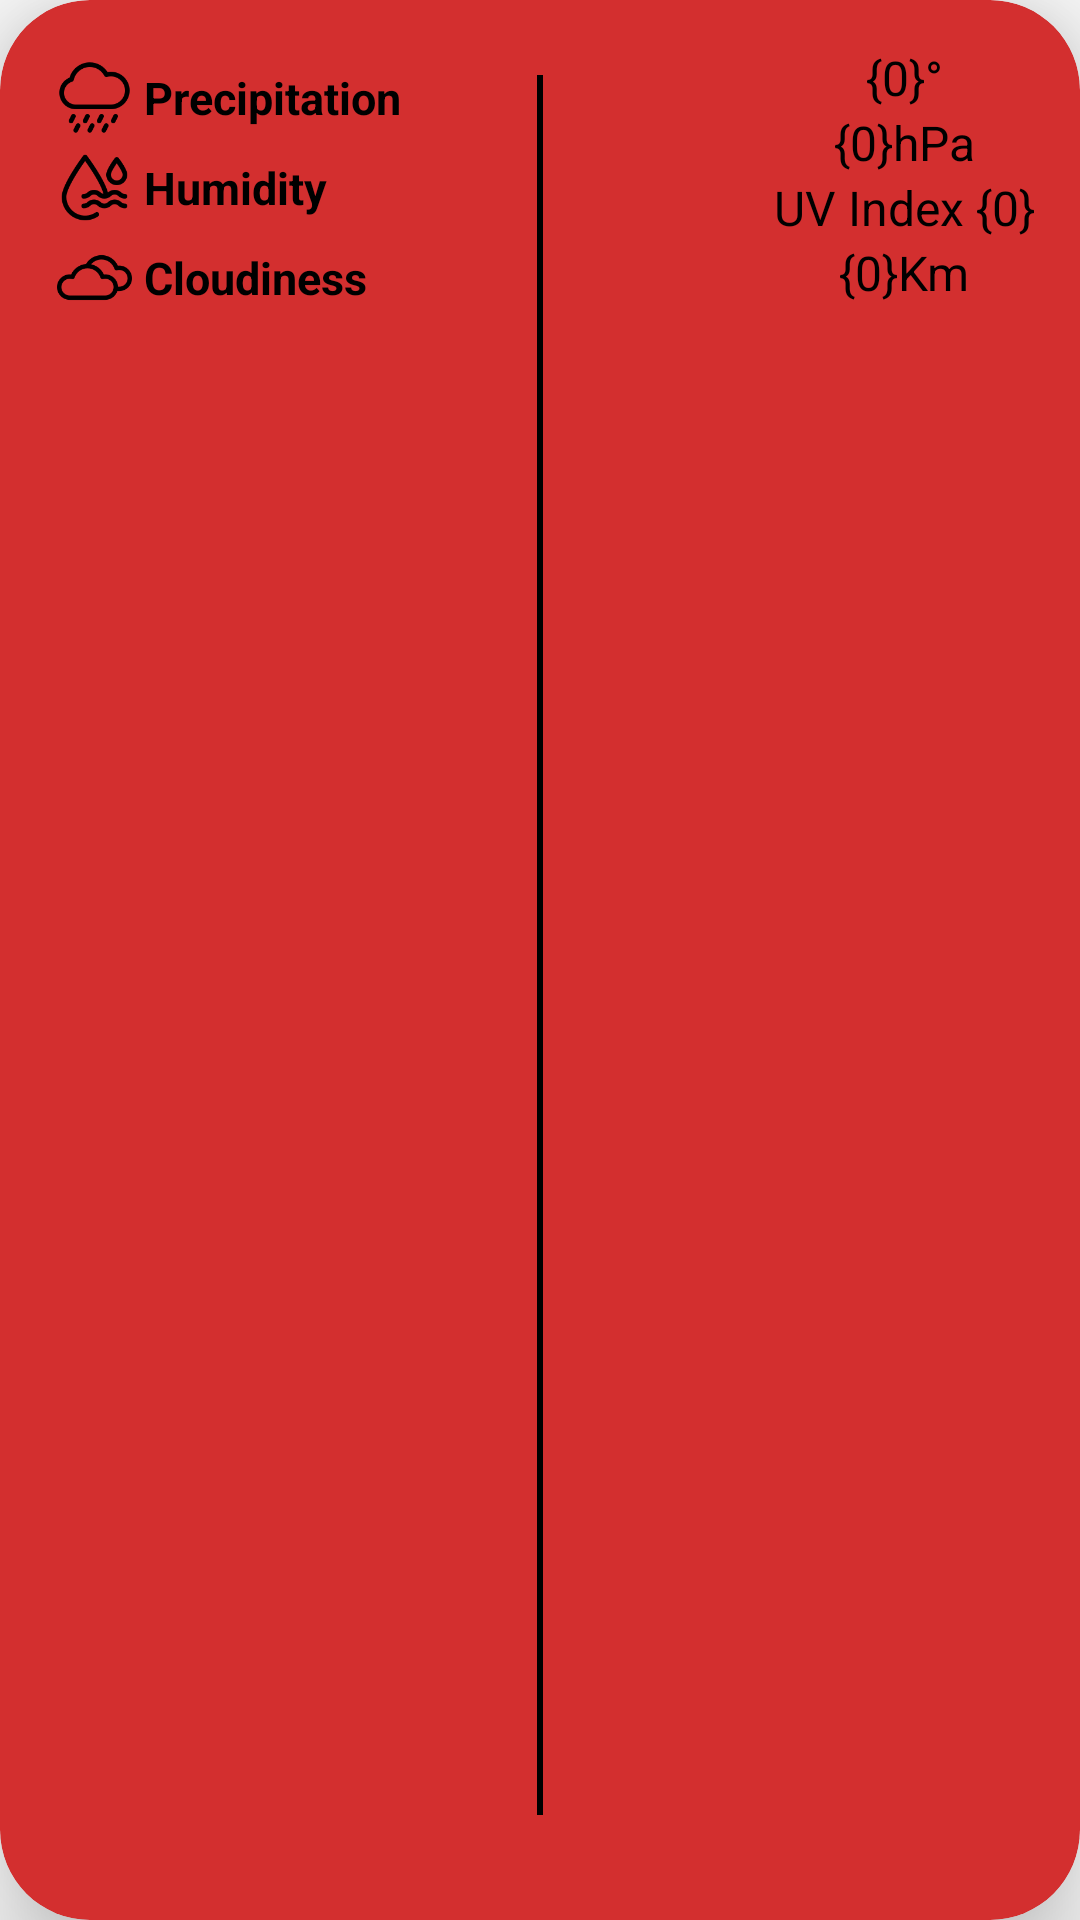

Icon bounding boxes for this 1080w x 1920h phone screenshot, format [x1=x1, y1=y1, x2=x2, y2=y2]:
rain: [x1=59, y1=62, x2=130, y2=133]
